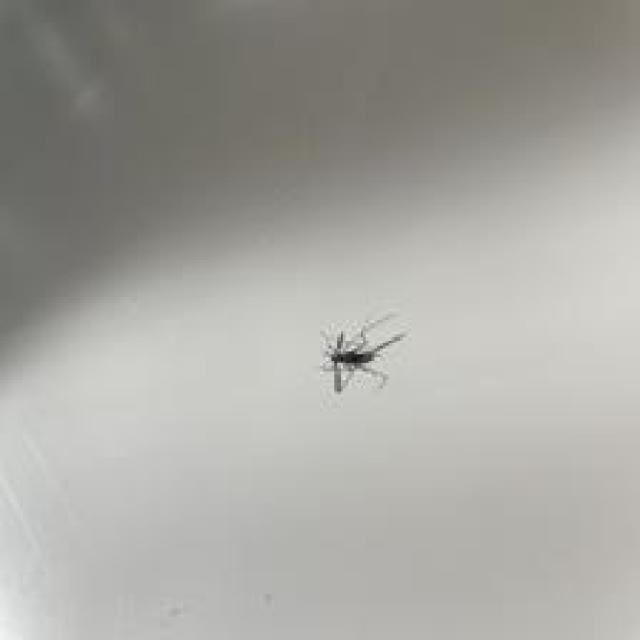Aedes albopictus: (317, 312, 406, 394)
